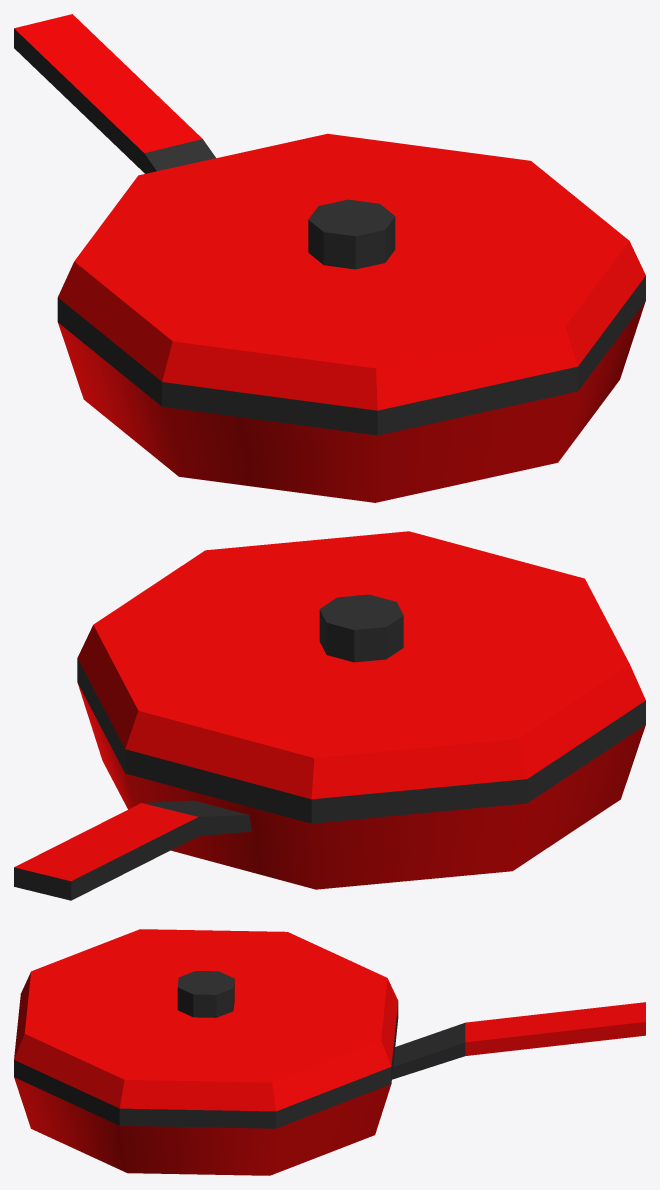
File: Frying pan1_Red.fbx
3 renders of one model, top to bottom at view 1: azimuth 30°, elevation 25°; view 2: azimuth 150°, elevation 25°; view 3: azimuth 270°, elevation 25°, orthographic. The views are drawn at different scales.
Parts seen in each view (by area): view 1: Frying pan1_Door, Frying pan1_Red; view 2: Frying pan1_Door, Frying pan1_Red; view 3: Frying pan1_Door, Frying pan1_Red.
Boxes of the visible parts, x1,y1,x2,y2 form: Frying pan1_Door: [57, 133, 645, 435]; Frying pan1_Red: [14, 14, 645, 502]; Frying pan1_Door: [77, 531, 645, 823]; Frying pan1_Red: [14, 683, 645, 900]; Frying pan1_Door: [14, 929, 398, 1128]; Frying pan1_Red: [14, 1002, 645, 1175].
Size of the model in its own units: 30.29 by 10.34 by 49.8.
